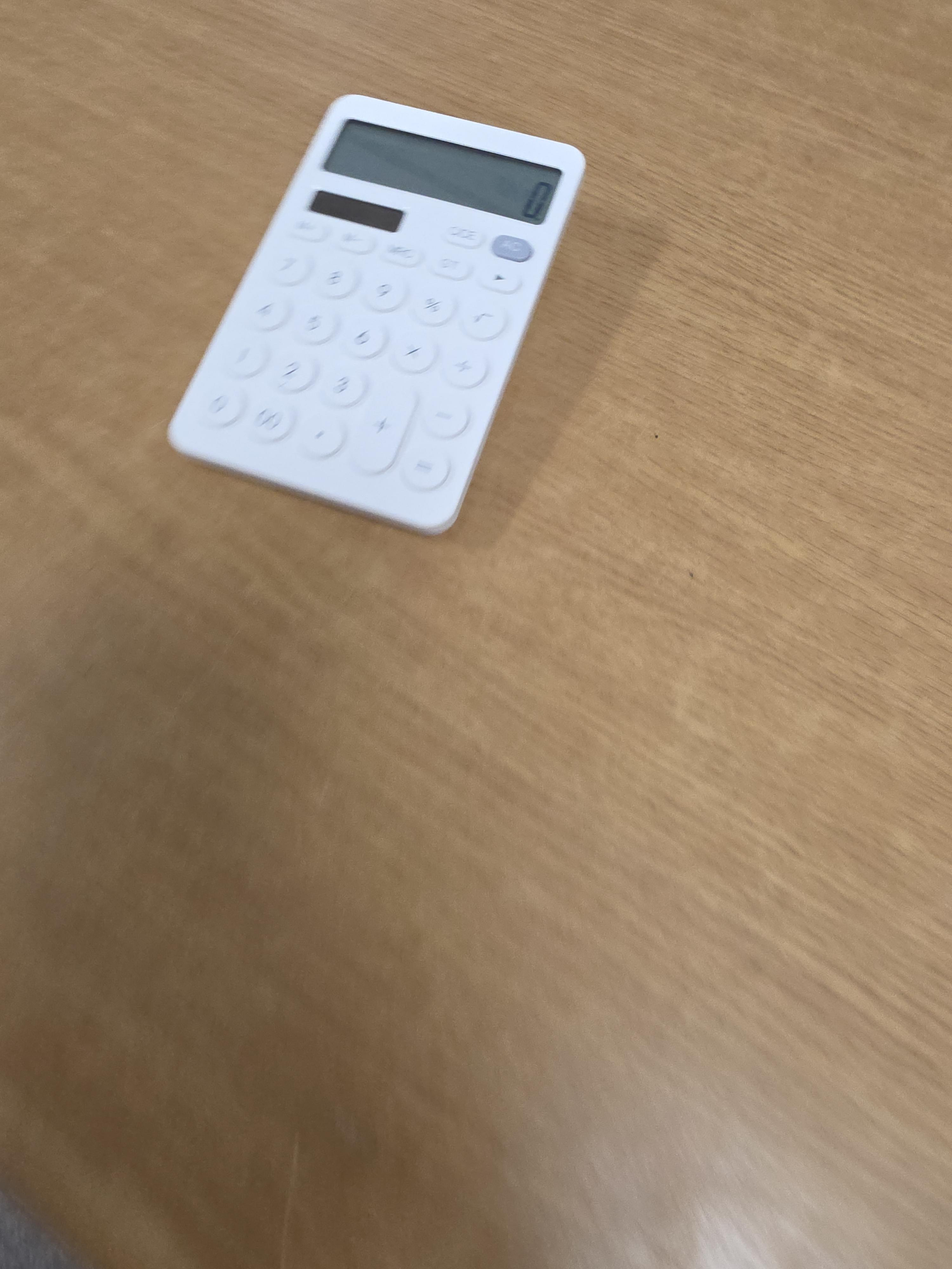calculator: (167, 94, 588, 536)
